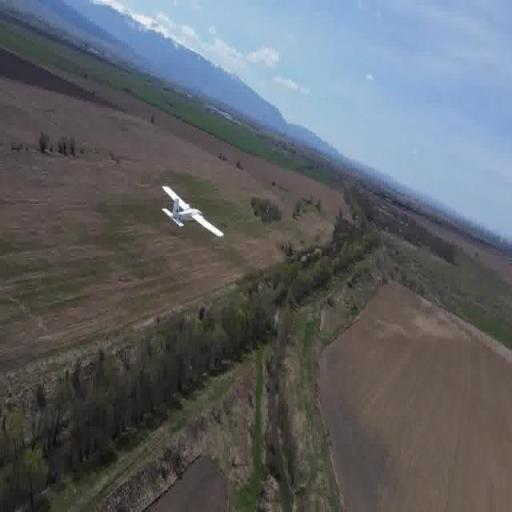uav: (159, 172, 230, 250)
